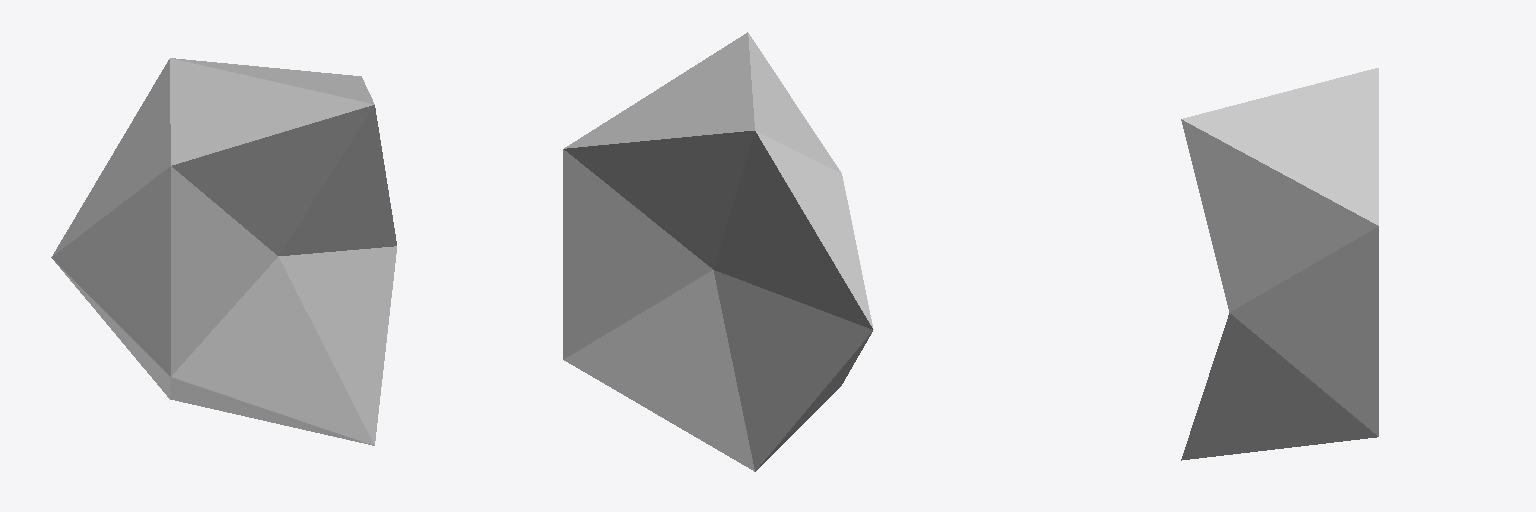
Rendered from floorScrap1.obj.
3 renders of one model, left to right at view 1: azimuth 30°, elevation 25°; view 2: azimuth 150°, elevation 25°; view 3: azimuth 270°, elevation 25°, orthographic.
Visible parts, largest first — view 1: Object.1; view 2: Object.1; view 3: Object.1.
Boxes of the visible parts, <box> form: Object.1: <box>51,58,396,445</box>; Object.1: <box>563,32,873,471</box>; Object.1: <box>1181,68,1378,460</box>.
Bounding box in the file's own units: 41.1 × 43.21 × 22.72.